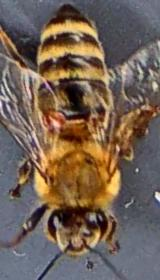varroa_mite: (38, 99, 71, 129)
